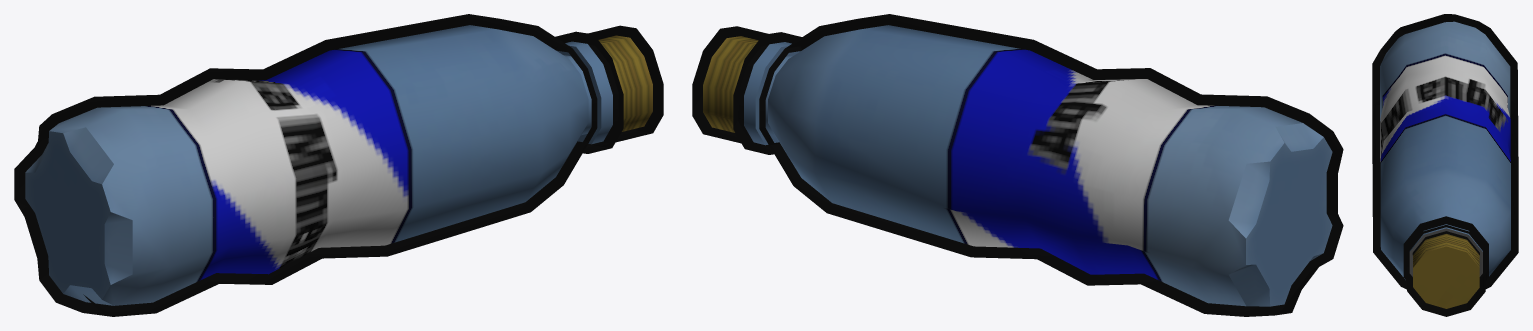
File: Garrafa de agua.glb
The picture shows the model from 3 angles, left to right: view 1: azimuth 30°, elevation 25°; view 2: azimuth 150°, elevation 25°; view 3: azimuth 270°, elevation 25°; orthographic projection. The views are drawn at different scales.
Parts seen in each view (by area): view 1: Aqua; view 2: Aqua; view 3: Aqua.
Boxes of the visible parts, box(x1,y1,x2,y2) form: Aqua: box(14, 14, 663, 316); Aqua: box(692, 14, 1343, 316); Aqua: box(1372, 14, 1518, 316).
Bounding box in the file's own units: 2.26 × 0.7863 × 0.6844.
2 materials, 1 textured.
